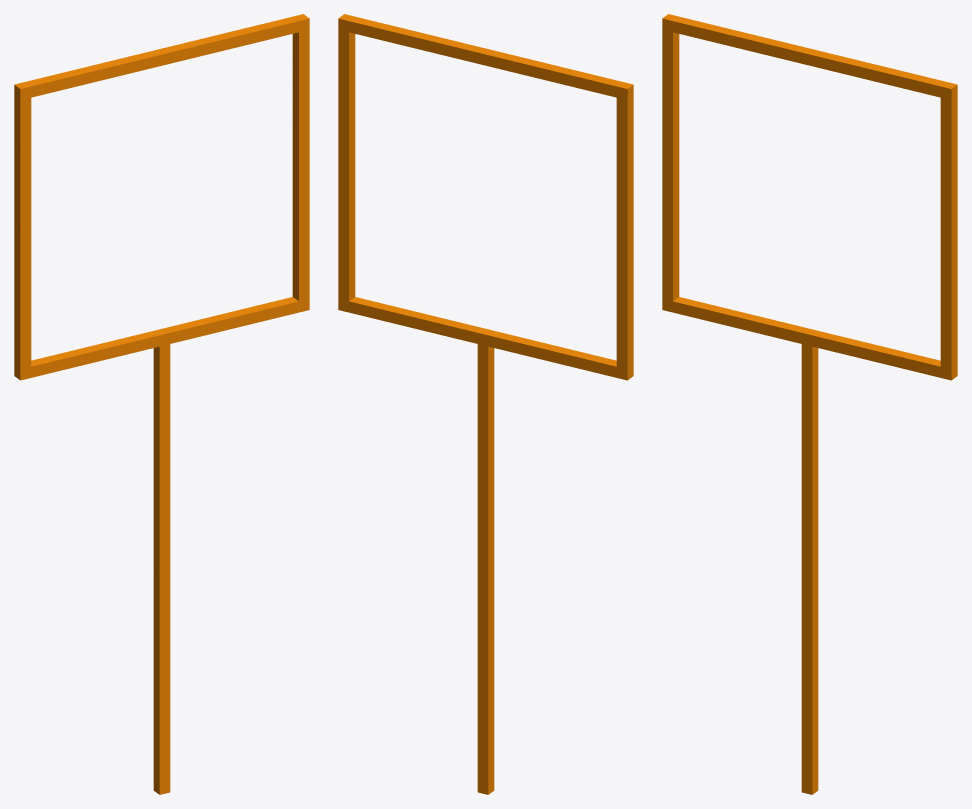
3 renders of one model, left to right at view 1: azimuth 30°, elevation 25°; view 2: azimuth 150°, elevation 25°; view 3: azimuth 330°, elevation 25°, orthographic.
Parts seen in each view (by area): view 1: group_0 (×2), group_1; view 2: group_0 (×2), group_1; view 3: group_0 (×2), group_1.
Boxes of the visible parts, <box> form: group_0 (×2): <box>14,14,309,380</box>; group_1: <box>153,344,170,794</box>; group_0 (×2): <box>338,14,633,380</box>; group_1: <box>477,344,494,794</box>; group_0 (×2): <box>662,14,957,380</box>; group_1: <box>801,344,818,794</box>.
Bounding box in the file's own units: 53.15 × 1.97 × 130.
